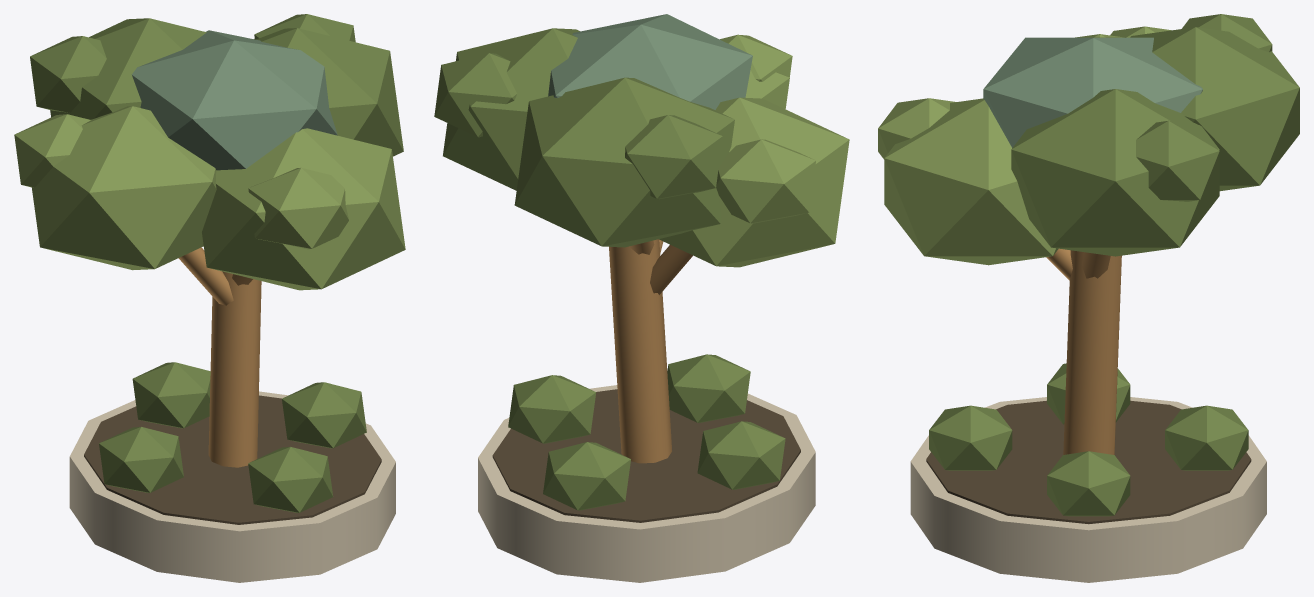
The model's file is courtyard-tree.fbx.
The picture shows the model from 3 angles, left to right: view 1: azimuth 30°, elevation 25°; view 2: azimuth 150°, elevation 25°; view 3: azimuth 270°, elevation 25°; orthographic projection. The views are drawn at different scales.
Visible parts, largest first — view 1: courtyard-tree; view 2: courtyard-tree; view 3: courtyard-tree.
Boxes of the visible parts, x1,y1,x2,y2 form: courtyard-tree: (14,14,405,582); courtyard-tree: (434,14,849,582); courtyard-tree: (878,14,1299,582).
Size of the model in its own units: 240 by 300 by 240.
